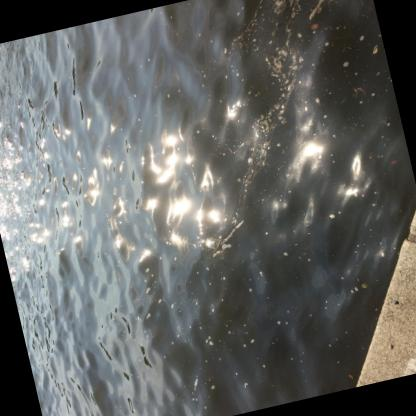Plastic: (205, 235, 222, 249)
